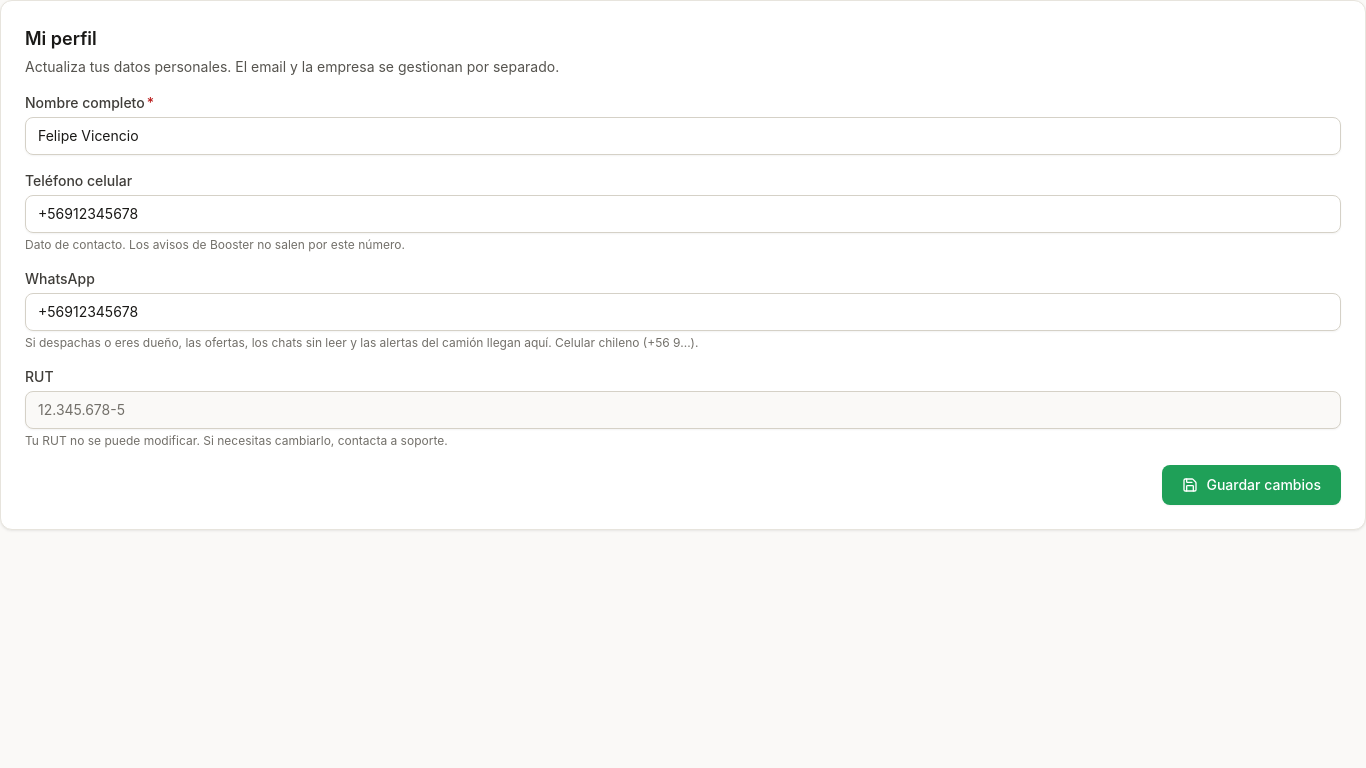
Test: ProfileForm — submit › PATCH succeede → mensaje "Cambios guardados"
Replace the text in the field labelled "Nombre completo*" with "Nuevo nombre": (683, 136) [25,117,1341,155]
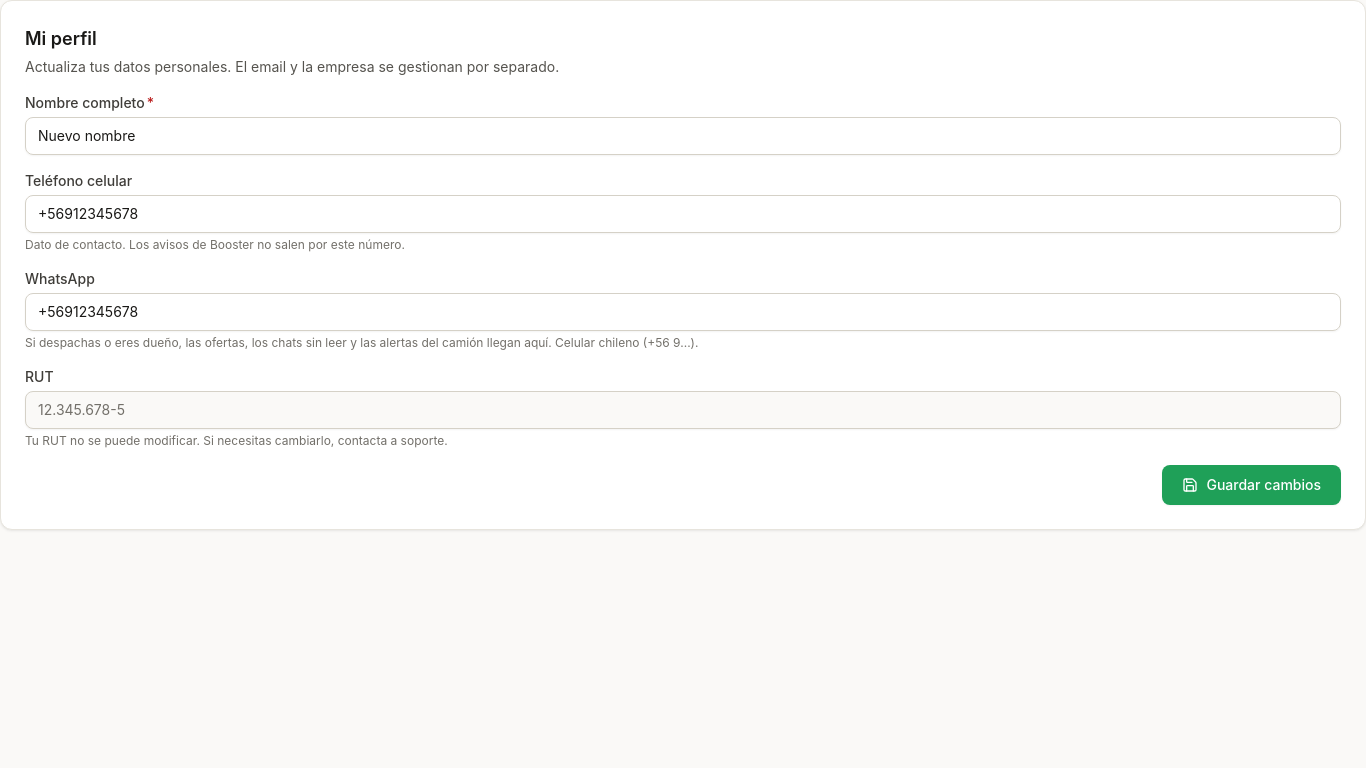
Click the button "Guardar cambios": click(1252, 485) [1162,465,1341,505]
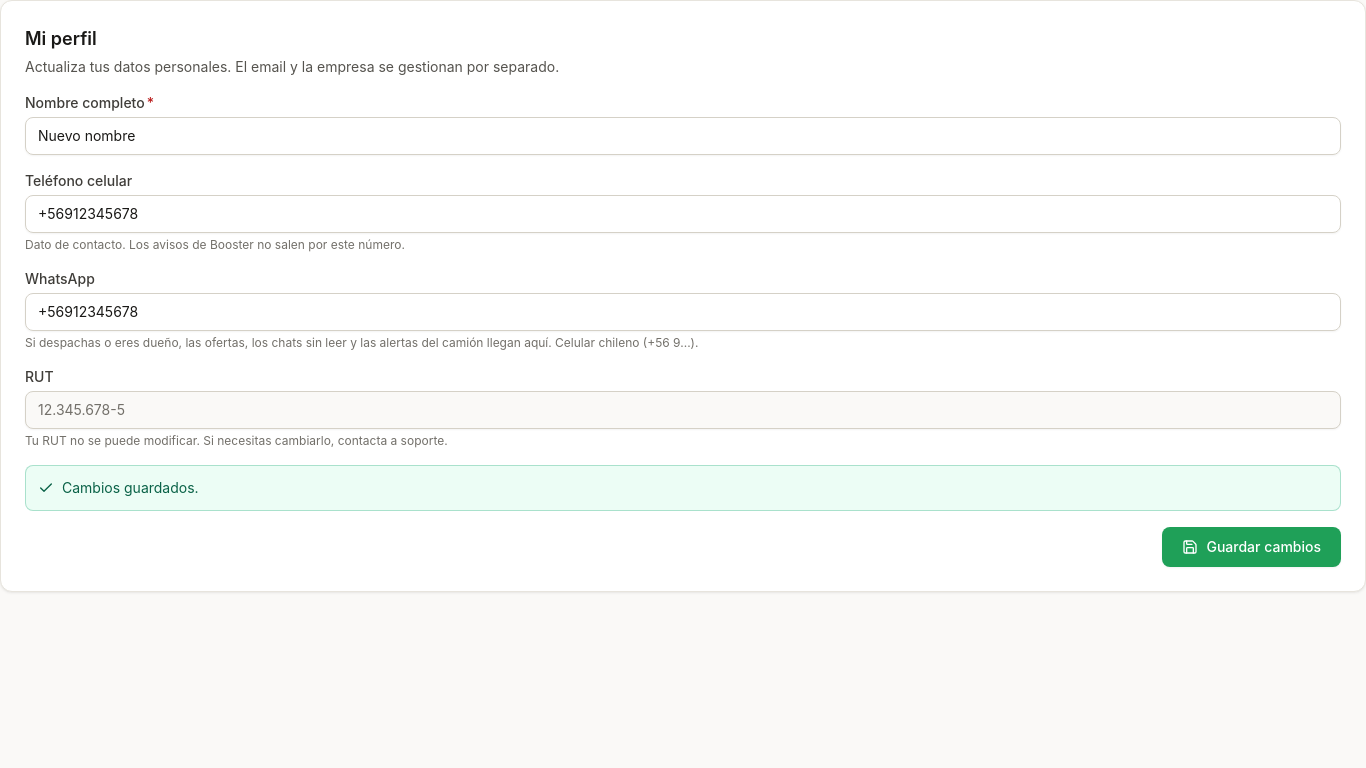
Check: the text "Cambios guardados." is shown, box [25,465,1341,511]
